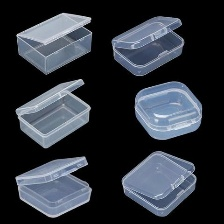plastic_box: (11, 6, 100, 80), (11, 74, 96, 151), (106, 9, 193, 81), (117, 146, 201, 220), (11, 151, 98, 221), (128, 76, 208, 145)
